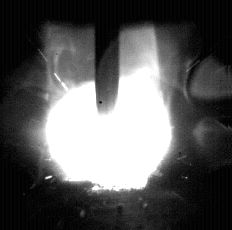arame: (98, 0, 119, 116)
poca: (45, 0, 172, 230)
